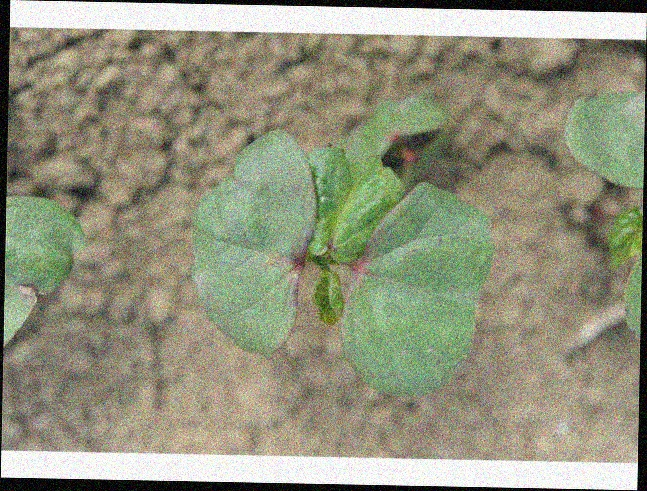cotton: (190, 127, 495, 397)
